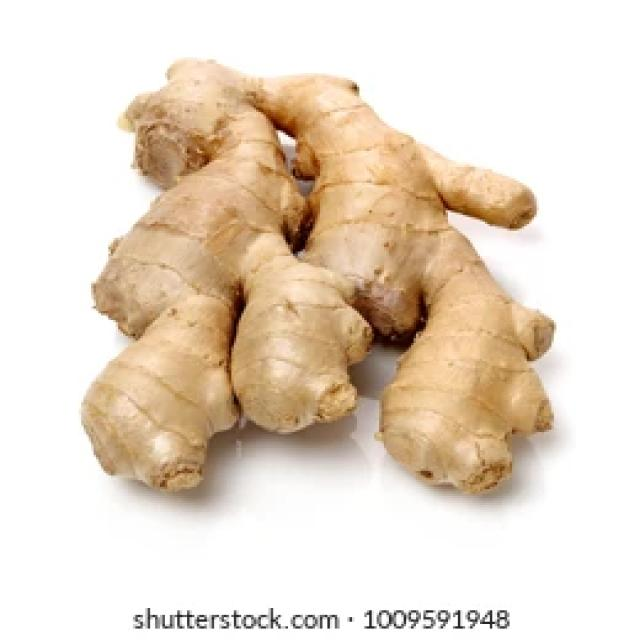ginger-root: (68, 51, 589, 524)
